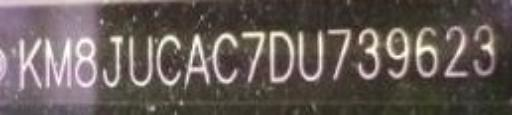letter: (438, 21, 474, 86), (412, 21, 446, 84), (208, 29, 244, 88), (294, 23, 328, 84), (150, 33, 186, 90), (40, 35, 76, 92), (322, 23, 354, 86), (238, 25, 270, 88), (124, 29, 156, 92), (468, 21, 500, 82), (380, 25, 412, 86), (98, 29, 130, 90), (12, 31, 44, 92), (180, 31, 212, 92), (354, 23, 384, 86), (264, 27, 296, 86), (72, 31, 100, 90)
